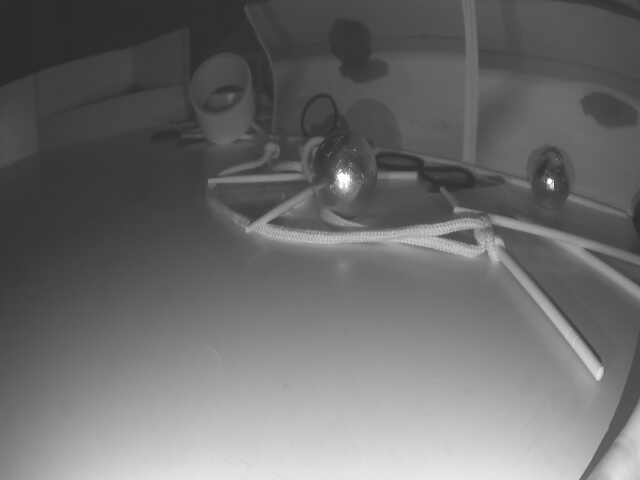Live: (313, 131, 373, 219), (531, 149, 573, 209)
Point: (37, 88, 189, 152)
